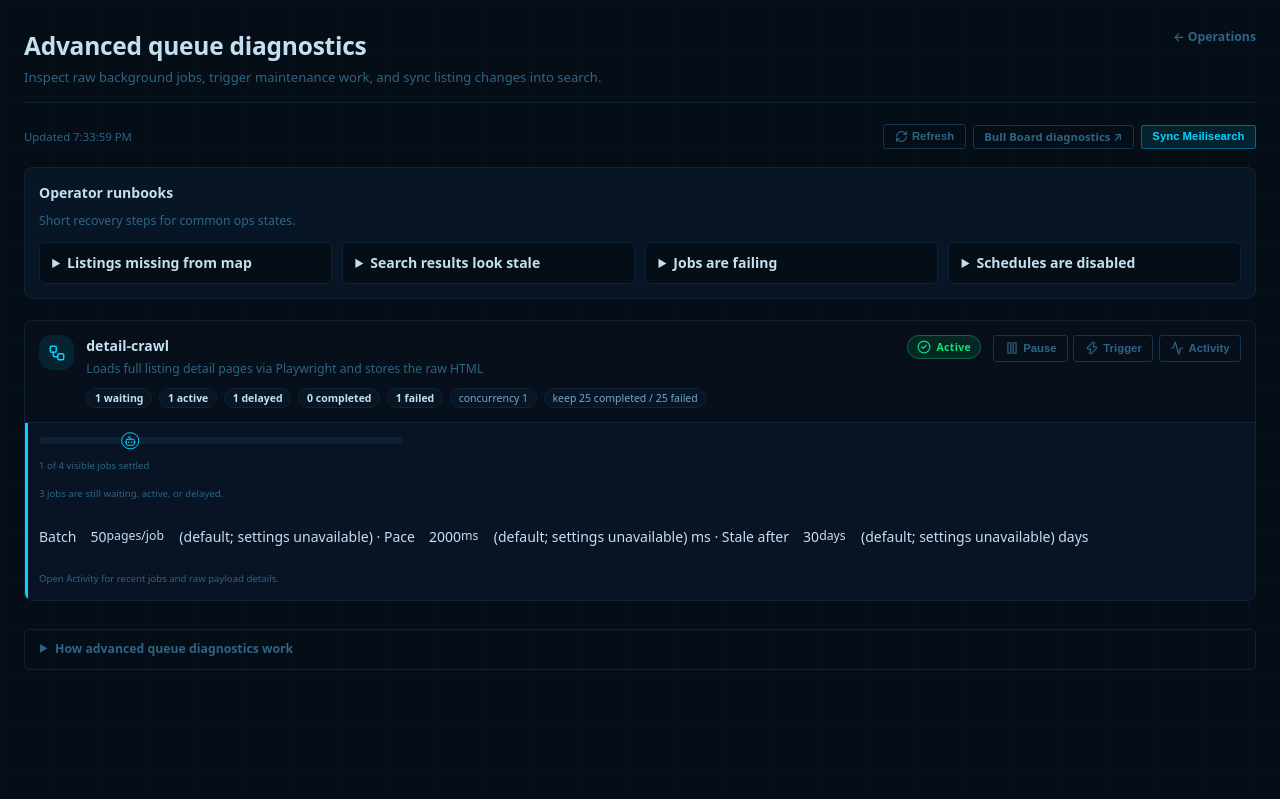
Test: QueuesClient per-job controls (#1152) › keeps the success message and focus outside a row that disappears after cancel
Click the button "Activity" at (1200, 348), box 1159,335 -> 1241,362
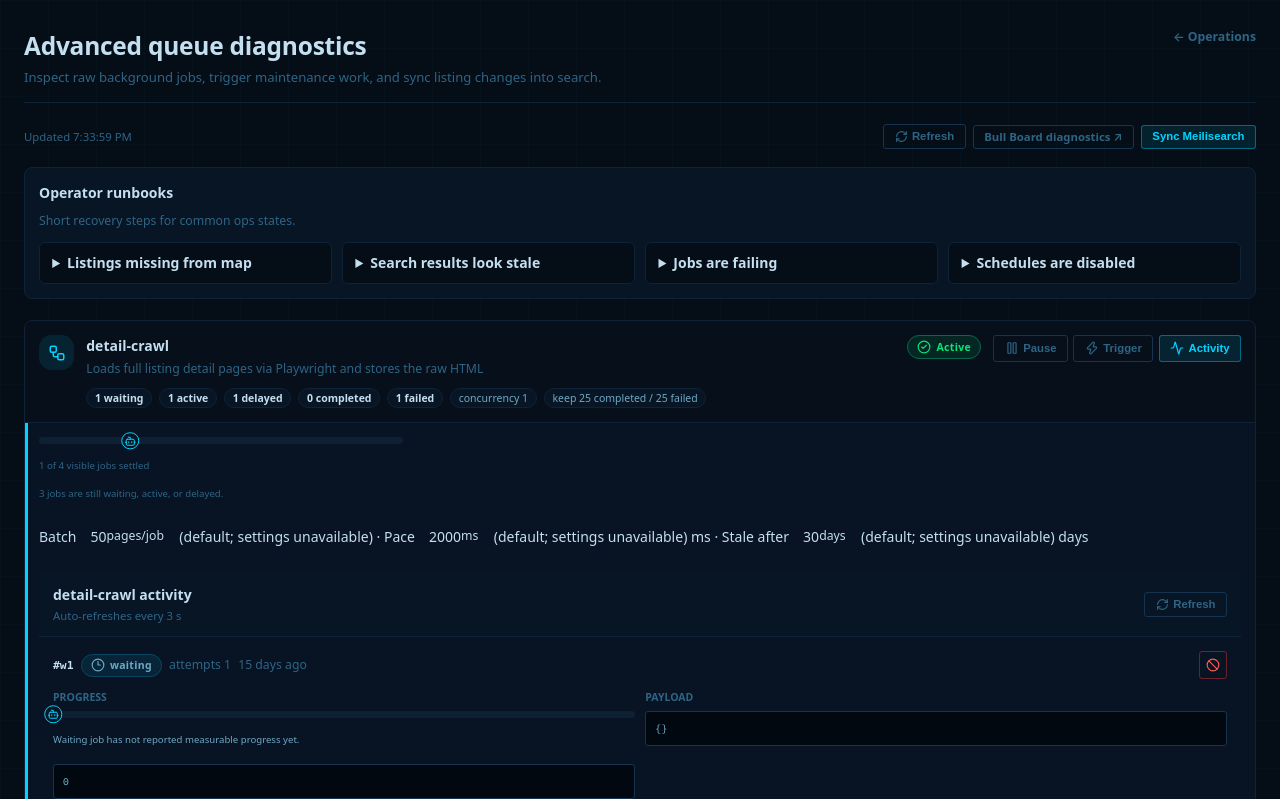
Now the text "#w1" is shown, box 53,657 -> 74,674
Click the button named "Cancel job #w1" at (1213, 666), box 1199,652 -> 1227,680
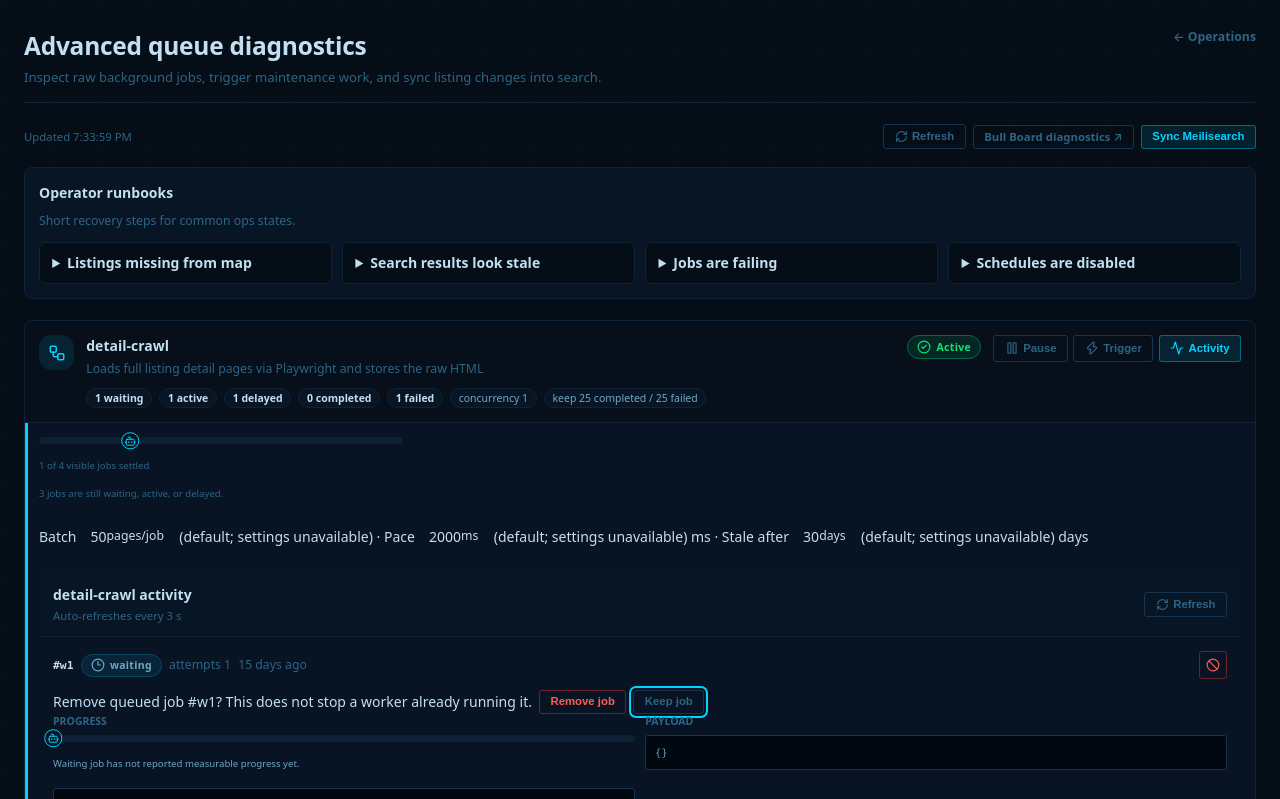
Click the button "Remove job" at (583, 702), box 539,690 -> 626,714
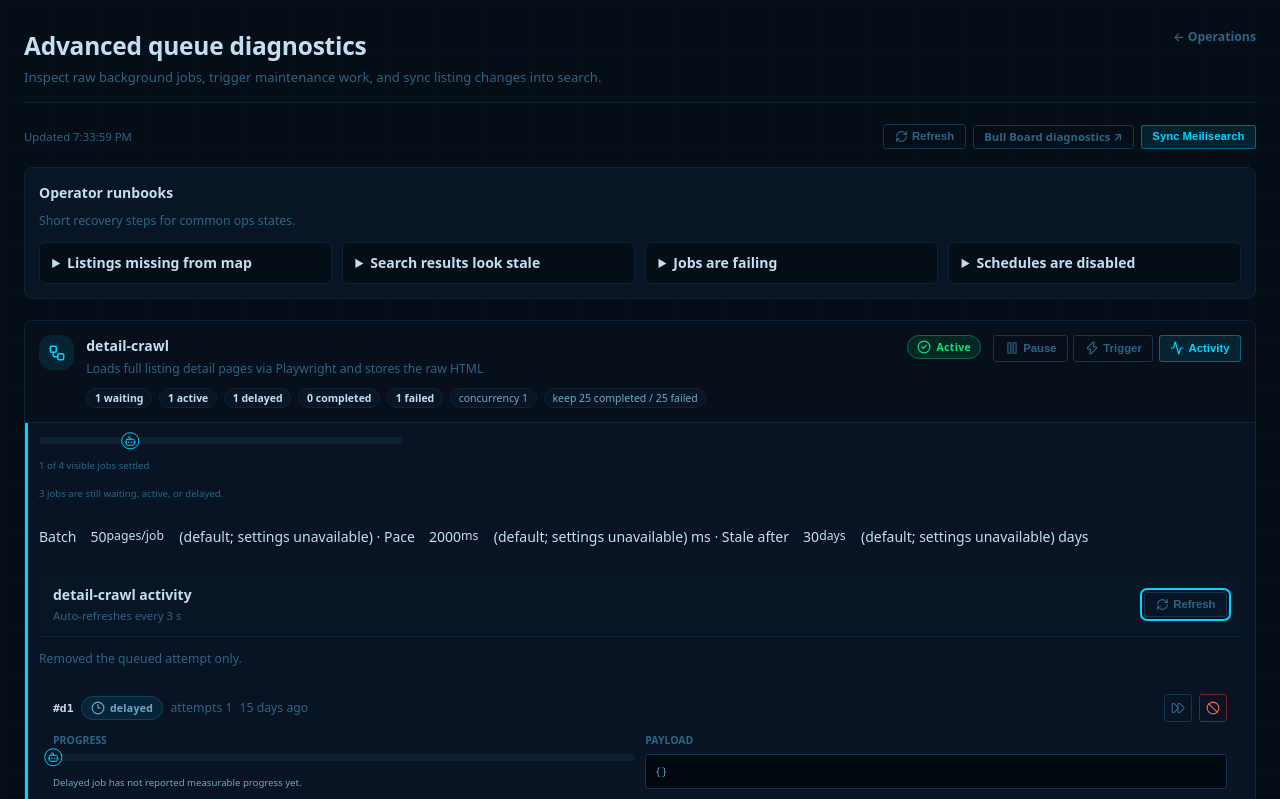
Now the text "#w1" is gone
Now the text "Removed the queued attempt only." is shown, box 39,650 -> 242,667
